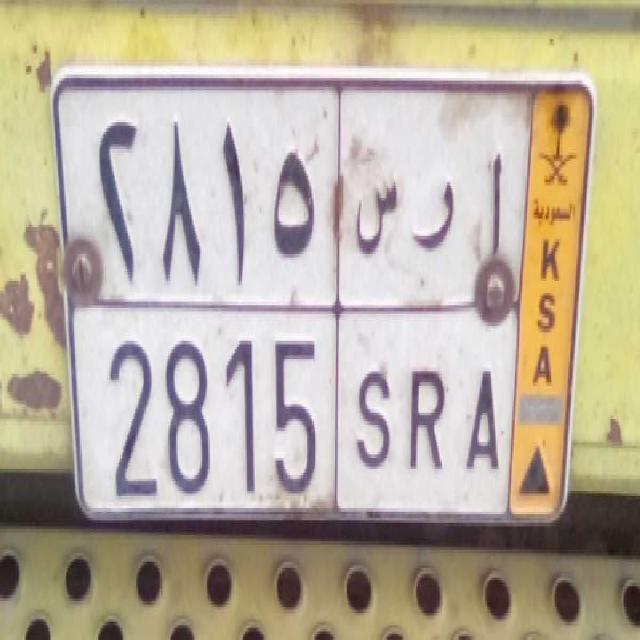license_plate: (72, 302, 512, 534)
